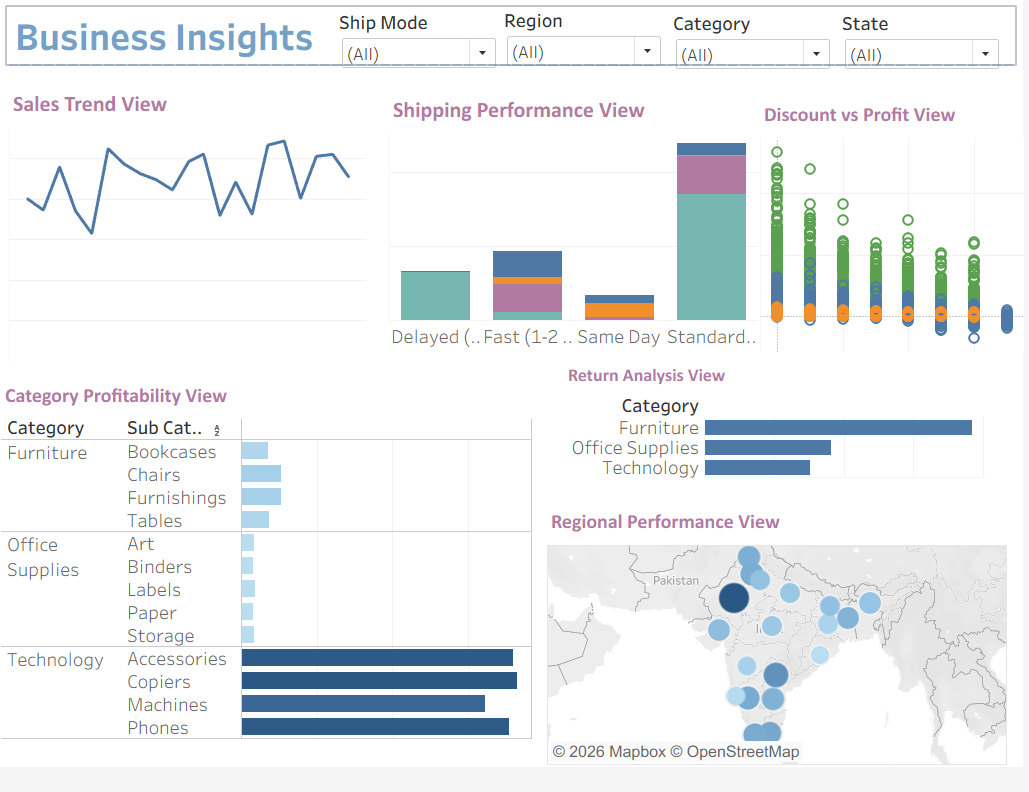

This screenshot's page, from the dashboard's own definition file:
{"tool":"tableau","page":{"name":"Business Insights","canvas":[1024,768],"ordinal":0},"visuals":[{"type":"title","box":[8,8,1008,57]},{"type":"filter","title":"Sales Trend","param":"[federated.0d8iams0lfwvn01cj5vl30xurycl].[none:region:nk]","box":[505,8,160,66]},{"type":"filter","title":"Ship Perf","param":"[federated.0d8iams0lfwvn01cj5vl30xurycl].[none:ship_mode:nk]","box":[340,10,160,70]},{"type":"filter","title":"Ship Perf","param":"[federated.0d8iams0lfwvn01cj5vl30xurycl].[none:category:nk]","box":[674,11,160,71]},{"type":"filter","title":"Reginal Perf","param":"[federated.0d8iams0lfwvn01cj5vl30xurycl].[none:state:nk]","box":[843,11,160,81]},{"type":"worksheet","title":"Sales Trend","mark":"Automatic","rows":["sales"],"cols":["order_date"],"box":[10,87,357,275]},{"type":"worksheet","title":"Ship Perf","mark":"Automatic","rows":["sales"],"cols":["Calculation_869476220598177796"],"box":[390,93,369,268]},{"type":"worksheet","title":"Discount vs Profit","mark":"Automatic","rows":["profit"],"cols":["discount"],"box":[761,99,264,254]},{"type":"worksheet","title":"Return Analysis","mark":"Automatic","rows":["category"],"cols":["Calculation_869476220597518339"],"box":[565,361,421,131]},{"type":"worksheet","title":"Catg Profitablity","mark":"Automatic","rows":["category","sub_category"],"cols":["profit"],"box":[2,380,531,362]},{"type":"worksheet","title":"Reginal Perf","mark":"Automatic","box":[548,506,460,260]}]}

Visuals, with their boxes in screenshot pixels (x1, y1, x2, y2), scaled from the page's 1024x768 canvas onto the 1029x792 screenshot:
title: region(8, 8, 1021, 67)
"Sales Trend" filter: region(507, 8, 668, 76)
"Ship Perf" filter: region(342, 10, 502, 82)
"Ship Perf" filter: region(677, 11, 838, 85)
"Reginal Perf" filter: region(847, 11, 1008, 95)
"Sales Trend" worksheet: region(10, 90, 369, 373)
"Ship Perf" worksheet: region(392, 96, 763, 372)
"Discount vs Profit" worksheet: region(765, 102, 1028, 364)
"Return Analysis" worksheet: region(568, 372, 991, 507)
"Catg Profitablity" worksheet: region(2, 392, 536, 765)
"Reginal Perf" worksheet: region(551, 522, 1013, 790)
